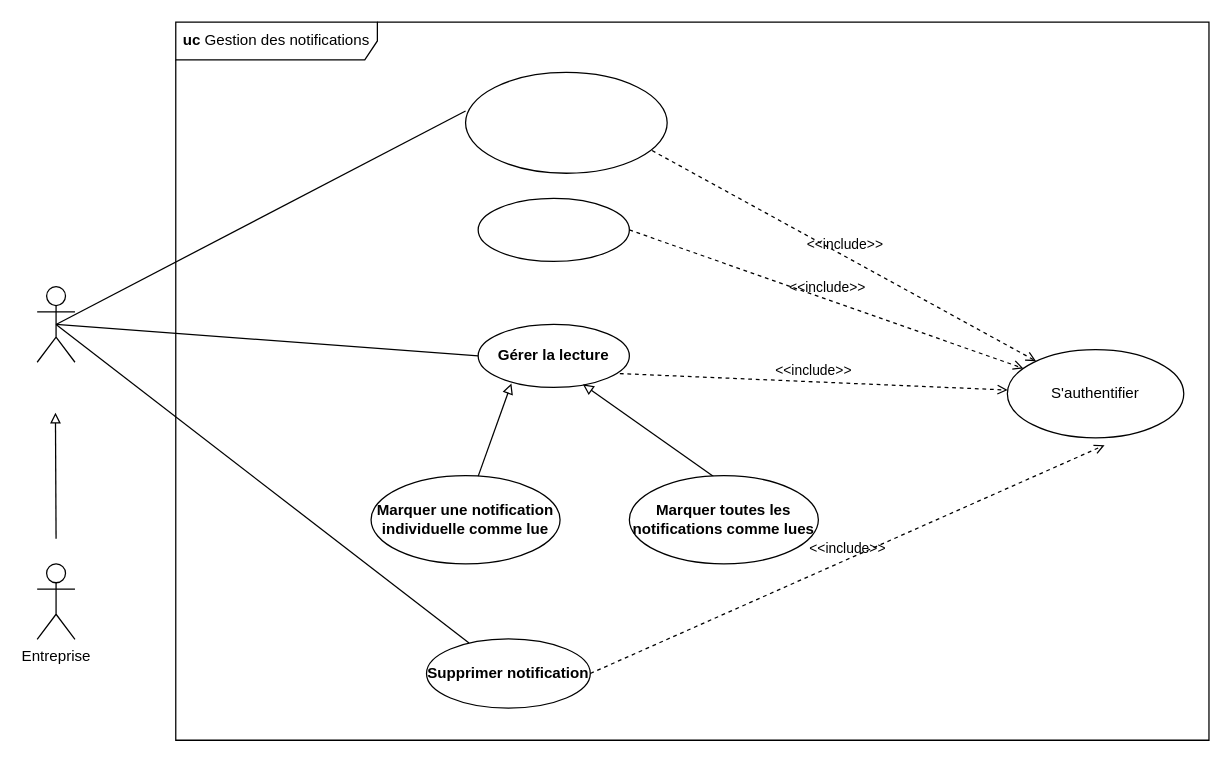
Image size: 1231x762. Some labels were removed from this diagram. The box of each missing label's shape, as (x1, y1, x2, y2) in pixels:
Consulter les notifications: (477, 197, 629, 261)
Utilisateur: (36, 285, 75, 362)
Voir le nombre de notifications non lues: (464, 71, 667, 173)
